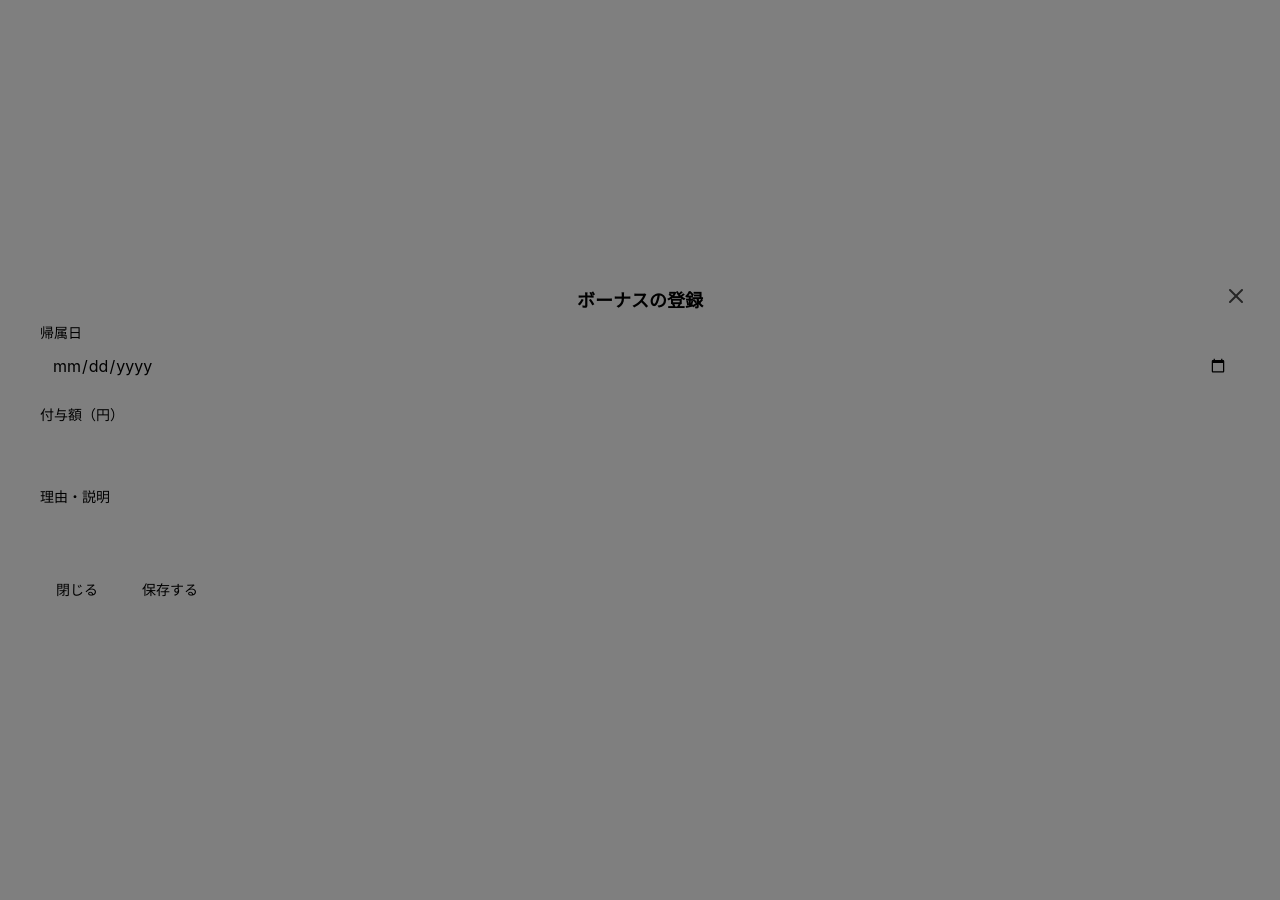
必須入力の不足をブラウザの吹き出しではなく日本語で示す
Click the button "保存する": (170, 590) x1=126 y1=572 x2=214 y2=608
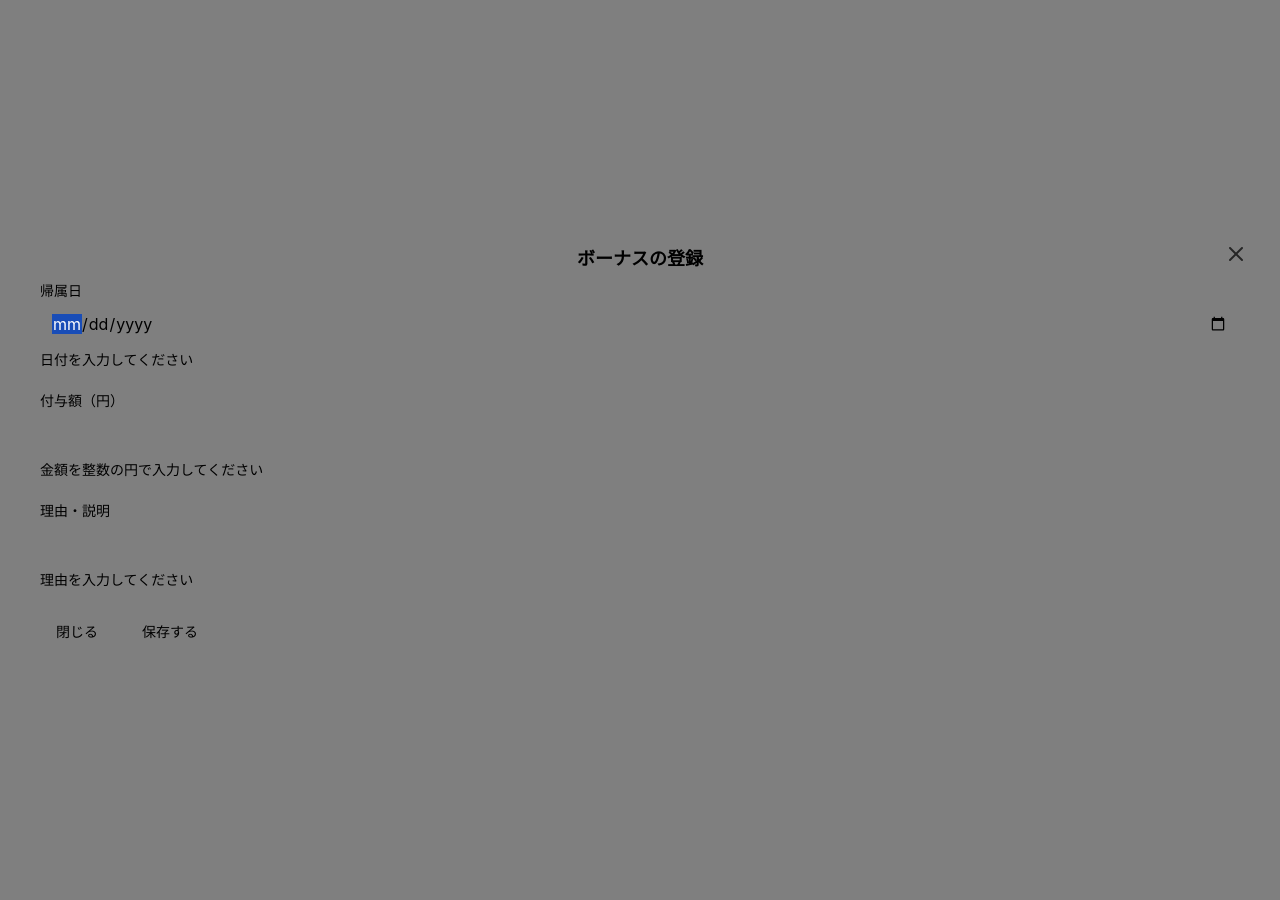
Check: the text "日付を入力してください" is shown, box x1=40 y1=351 x2=193 y2=368
Check: the text "金額を整数の円で入力してください" is shown, box x1=40 y1=461 x2=263 y2=478
Check: the text "理由を入力してください" is shown, box x1=40 y1=571 x2=193 y2=588
